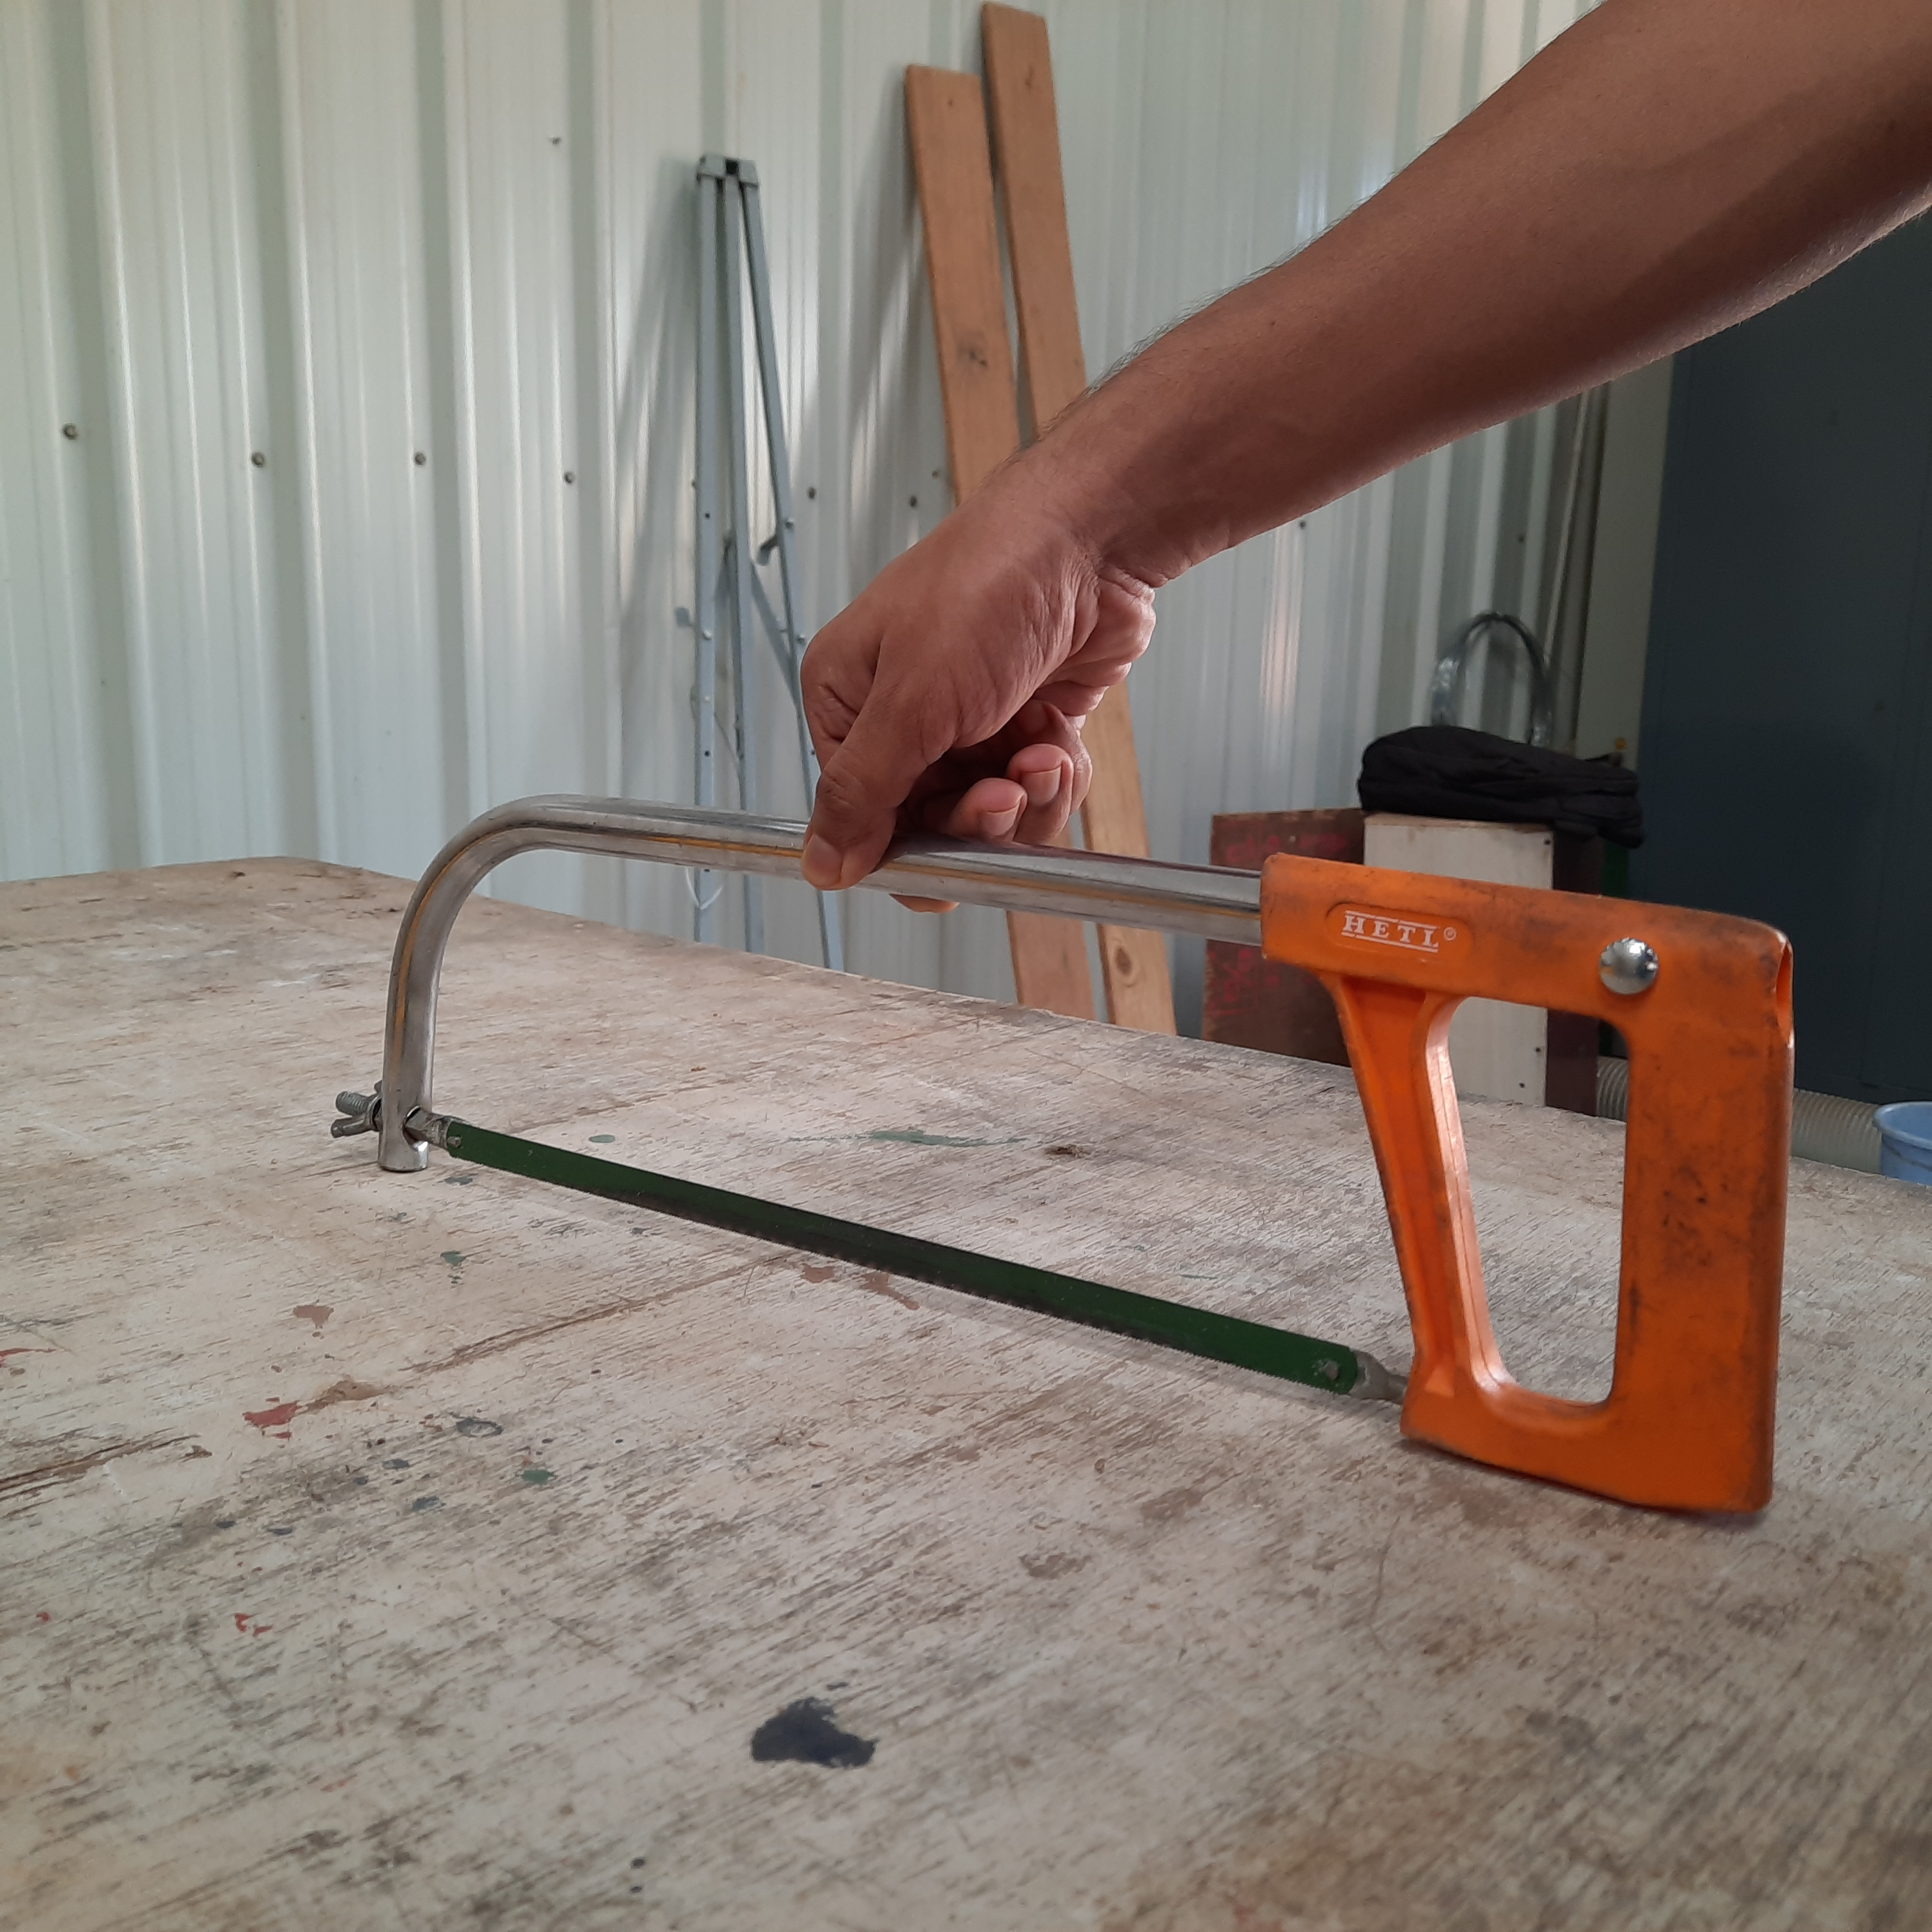Hexaframe: (340, 775, 1808, 1553)
